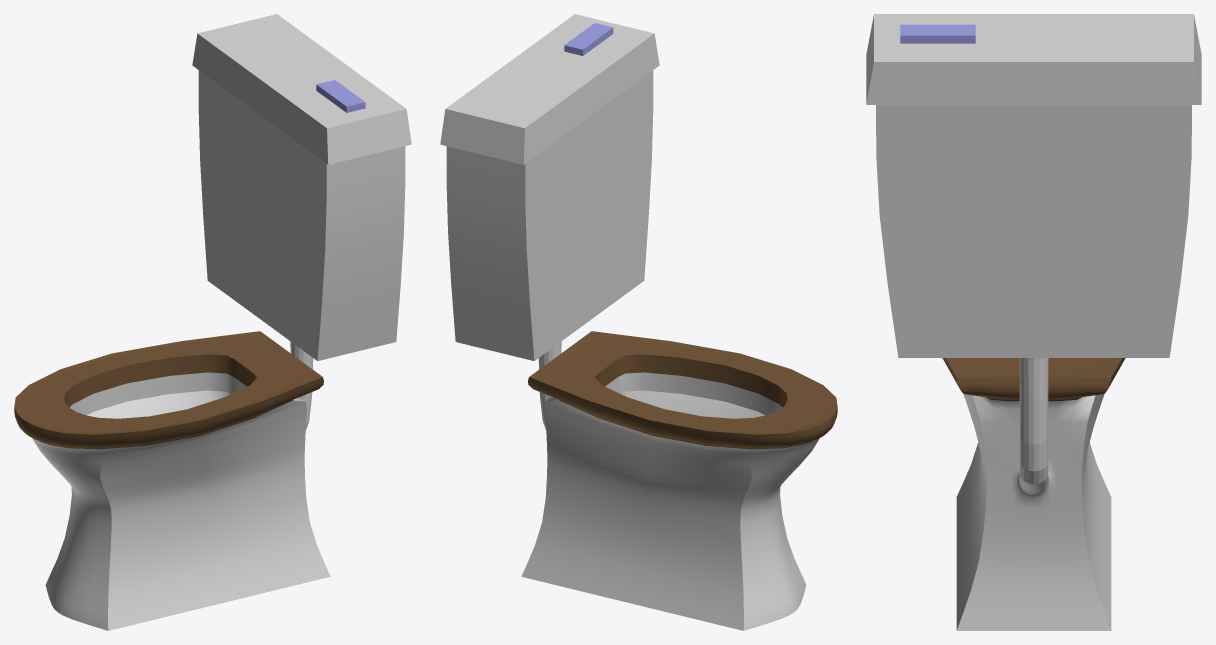
Rendered from toilet.fbx.
The picture shows the model from 3 angles, left to right: view 1: azimuth 30°, elevation 25°; view 2: azimuth 150°, elevation 25°; view 3: azimuth 270°, elevation 25°; orthographic projection. The views are drawn at different scales.
Visible parts, largest first — view 1: Cube; view 2: Cube; view 3: Cube.
Part boxes in pixels (left/top/right/bottom): Cube: left=14, top=14, right=411, bottom=630; Cube: left=440, top=14, right=837, bottom=630; Cube: left=866, top=14, right=1201, bottom=630.
Size of the model in its own units: 58.45 by 84.91 by 42.84.
